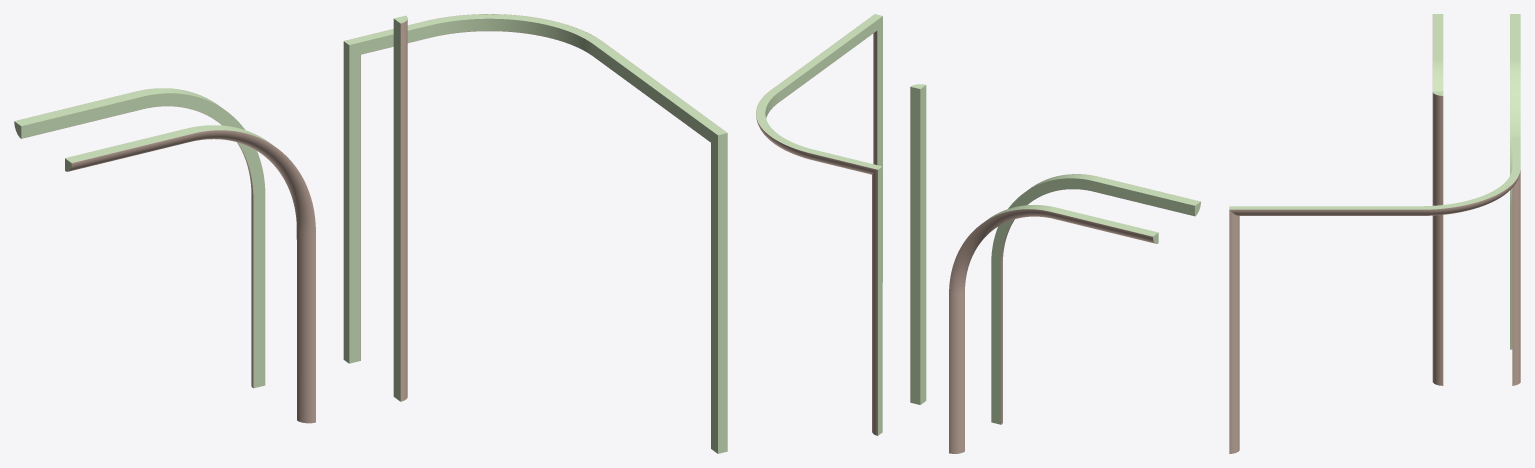
The picture shows the model from 3 angles, left to right: view 1: azimuth 30°, elevation 25°; view 2: azimuth 150°, elevation 25°; view 3: azimuth 270°, elevation 25°; orthographic projection. The views are drawn at different scales.
Visible parts, largest first — view 1: styrofoam (×10), 14 Coat_StyroFoam, FB 5mm; view 2: styrofoam (×9), 14 Coat_StyroFoam, Plaster (×3); view 3: Plaster (×3), styrofoam (×7), FB 5mm, Curved coat.
Part boxes in pixels (left/top/right/bottom): styrofoam (×10): left=14, top=14, right=727, bottom=453; 14 Coat_StyroFoam: left=14, top=88, right=315, bottom=423; FB 5mm: left=400, top=16, right=407, bottom=401; styrofoam (×9): left=756, top=14, right=1200, bottom=435; 14 Coat_StyroFoam: left=949, top=174, right=1200, bottom=453; Plaster (×3): left=810, top=31, right=877, bottom=435; Plaster (×3): left=1229, top=172, right=1520, bottom=453; styrofoam (×7): left=1232, top=14, right=1520, bottom=349; FB 5mm: left=1432, top=92, right=1443, bottom=385; Curved coat: left=1420, top=169, right=1520, bottom=215.
Bounding box in the file's own units: 5.19 × 3.58 × 3.27.
